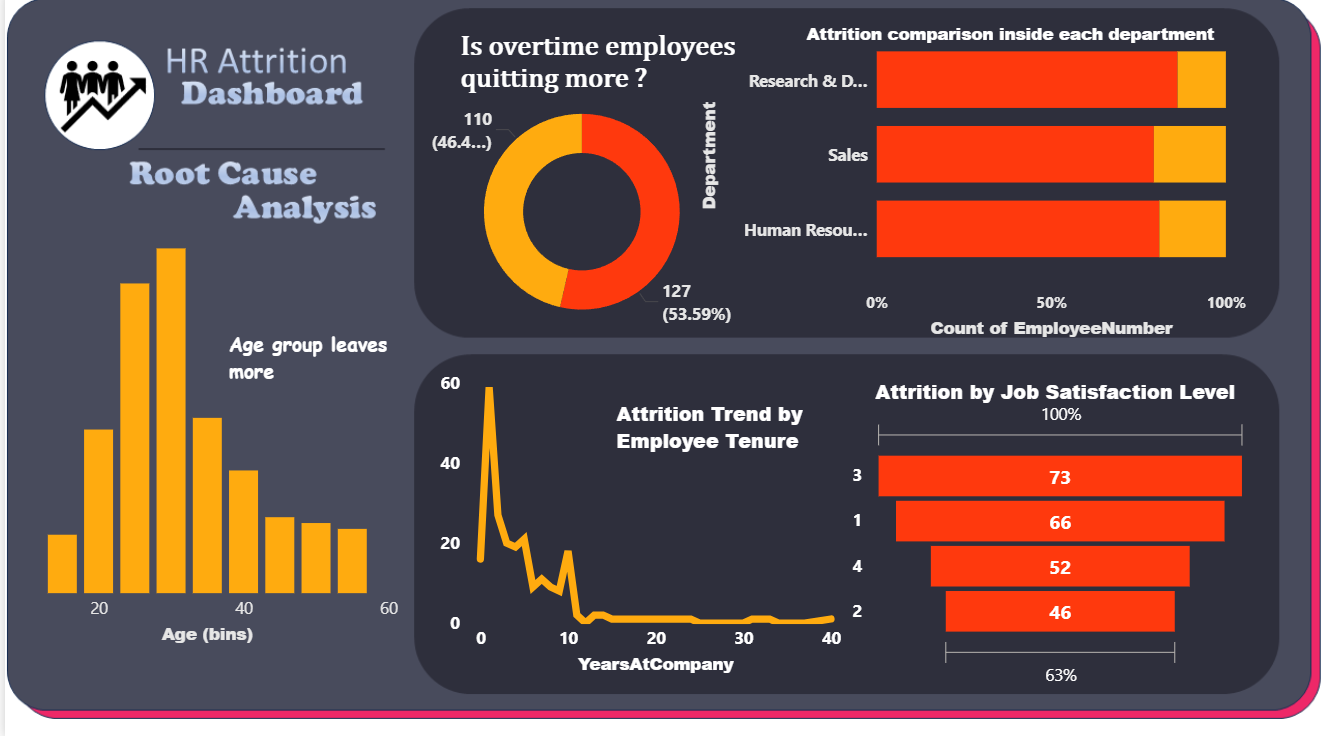

The page's visual inventory and layout, read from the dashboard file:
{"tool":"powerbi","page":{"name":"Page 2","canvas":[1280,720],"ordinal":1},"visuals":[{"type":"clusteredColumnChart","fields":{"Category":["HR_Attrition_With_Predictions.Age (bins)"],"Y":["Sum(HR_Attrition_With_Predictions.Attrition)"]},"box":[0,228.6,390.9,407.8],"z":0},{"type":"textbox","box":[211.7,320.8,179.2,79.2],"z":1000},{"type":"donutChart","fields":{"Y":["Sum(HR_Attrition_With_Predictions.Attrition)"],"Category":["HR_Attrition_With_Predictions.OverTime"]},"box":[401.3,51.9,310.4,320.8],"z":2000},{"type":"textbox","box":[433.8,32.5,320.8,80.5],"z":3000},{"type":"hundredPercentStackedBarChart","fields":{"Category":["HR_Attrition_With_Predictions.Department"],"Y":["Count(HR_Attrition_With_Predictions.EmployeeNumber)"],"Series":["HR_Attrition_With_Predictions.Attrition"]},"box":[667.5,15.6,536.4,324.7],"z":4000},{"type":"textbox","box":[768.8,24.7,453.2,48.1],"z":5000},{"type":"lineChart","fields":{"Category":["HR_Attrition_With_Predictions.YearsAtCompany"],"Y":["Sum(HR_Attrition_With_Predictions.Attrition)"]},"box":[415.6,361,397.4,303.9],"z":6000},{"type":"funnel","fields":{"Category":["HR_Attrition_With_Predictions.JobSatisfaction"],"Y":["Sum(HR_Attrition_With_Predictions.Attrition)"]},"box":[813,388.3,390.9,288.3],"z":7000},{"type":"textbox","box":[585.7,388.3,209.1,93.5],"z":8000},{"type":"textbox","box":[835.1,366.2,426,44.2],"z":9000}]}

Visuals, with their boxes in screenshot pixels (x1, y1, x2, y2), scaled from the page's 1280x720 canvas onto the 1329x736 screenshot:
clusteredColumnChart - HR_Attrition_With_Predictions.Age (bins) x Sum(HR_Attrition_With_Predictions.Attrition): 0 234 406 651
textbox: 220 328 406 409
donutChart - Sum(HR_Attrition_With_Predictions.Attrition) x HR_Attrition_With_Predictions.OverTime: 417 53 739 381
textbox: 450 33 783 116
hundredPercentStackedBarChart - HR_Attrition_With_Predictions.Department x Count(HR_Attrition_With_Predictions.EmployeeNumber): 693 16 1250 348
textbox: 798 25 1269 74
lineChart - HR_Attrition_With_Predictions.YearsAtCompany x Sum(HR_Attrition_With_Predictions.Attrition): 432 369 844 680
funnel - HR_Attrition_With_Predictions.JobSatisfaction x Sum(HR_Attrition_With_Predictions.Attrition): 844 397 1250 692
textbox: 608 397 825 493
textbox: 867 374 1309 420
